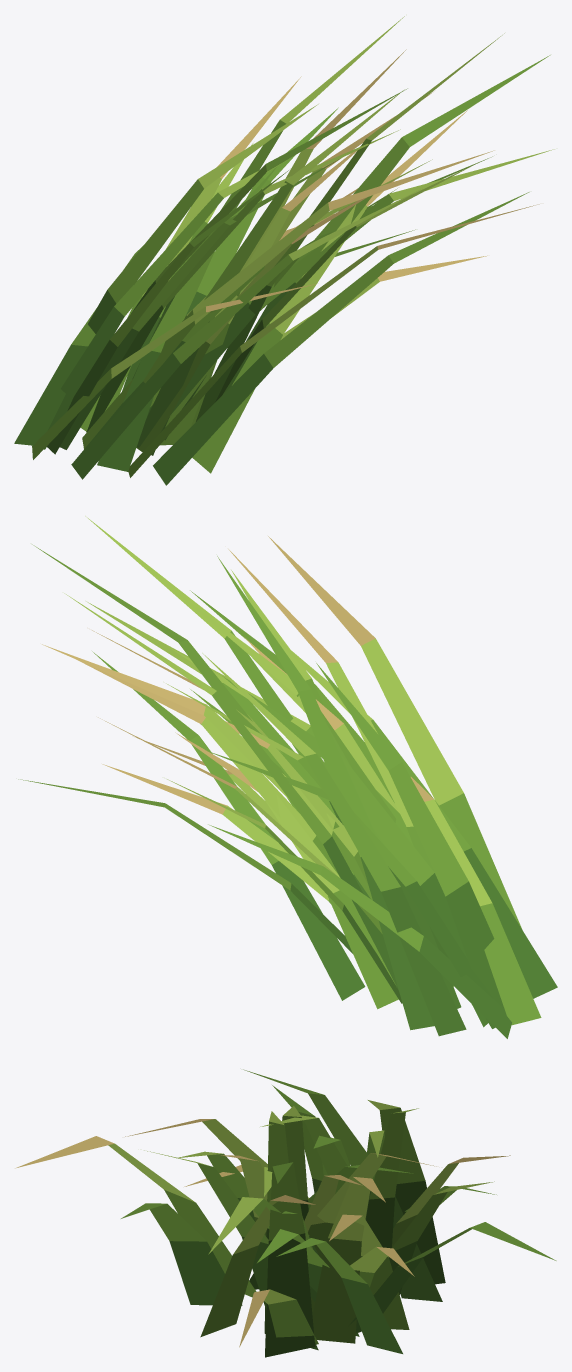
The model's file is G08_WindSweptClump.glb.
The picture shows the model from 3 angles, top to bottom: view 1: azimuth 30°, elevation 25°; view 2: azimuth 150°, elevation 25°; view 3: azimuth 270°, elevation 25°; orthographic projection. The views are drawn at different scales.
Parts seen in each view (by area): view 1: G08_WindSweptClump; view 2: G08_WindSweptClump; view 3: G08_WindSweptClump.
Part boxes in pixels (x1,y1,x2,y2): G08_WindSweptClump: (14, 16, 554, 485); G08_WindSweptClump: (18, 516, 557, 1038); G08_WindSweptClump: (15, 1069, 556, 1357).
Size of the model in its own units: 1.78 by 1.17 by 1.36.
